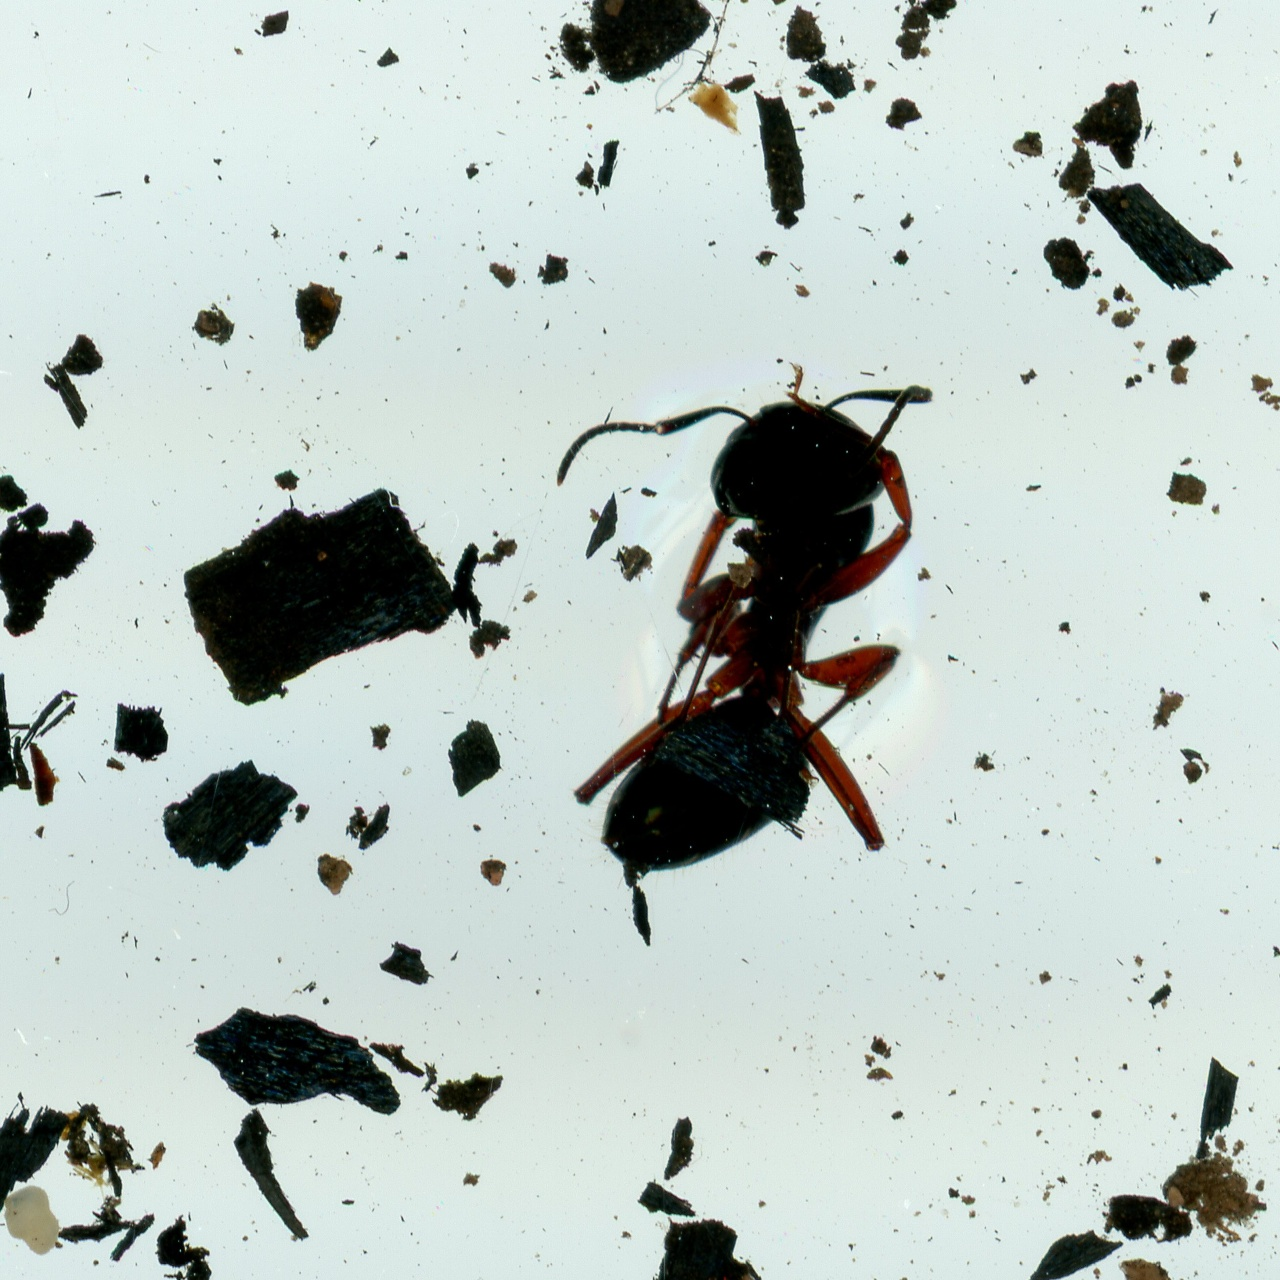arthropod: (542, 359, 937, 898)
